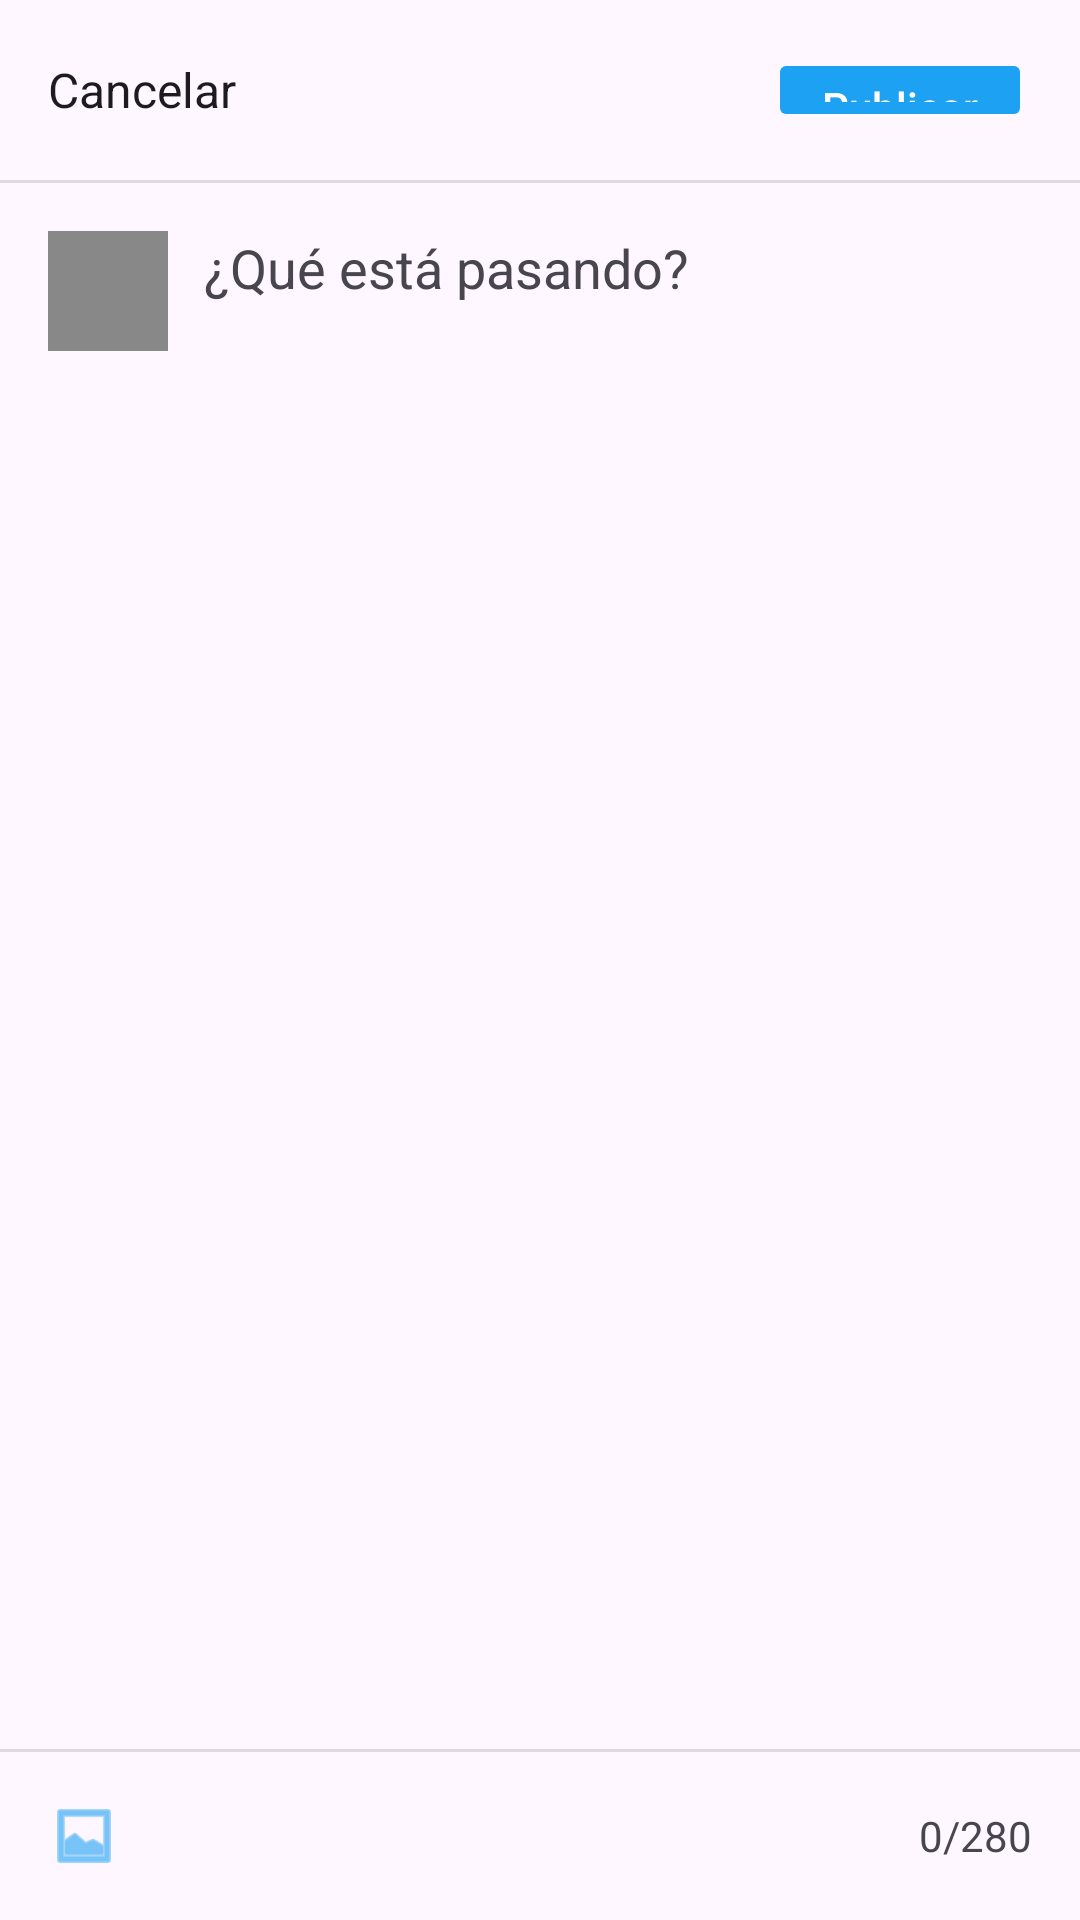

Screen size 1080x1920. Icon name, then its box in pixels as (x1, y1, x2, y2):
gallery: (57, 1809, 111, 1863)
